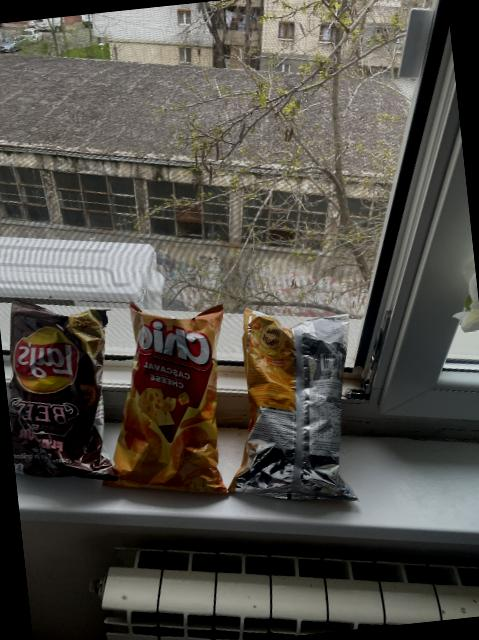Chio Cascaval 125g: (86, 299, 234, 500)
Chio Hula Hoops Cheese 70g: (214, 302, 368, 512)
Lays Beef Grilled Ribs 125g: (0, 297, 125, 486)
